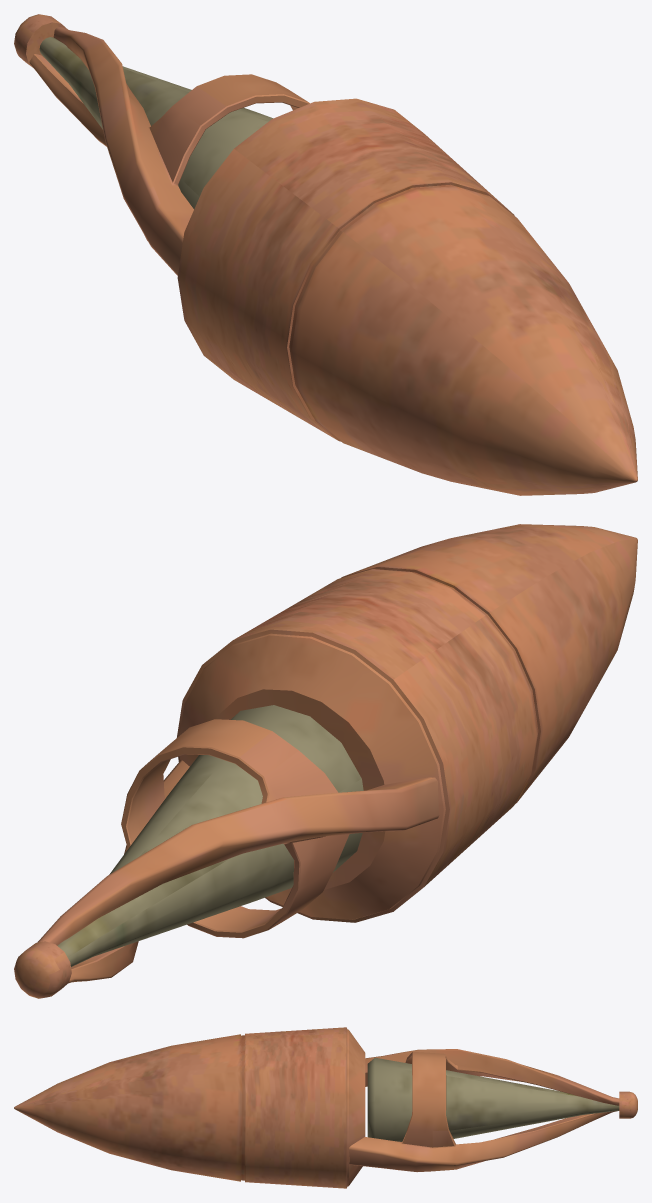
The model's file is Bullet3.fbx.
The picture shows the model from 3 angles, top to bottom: view 1: azimuth 30°, elevation 25°; view 2: azimuth 150°, elevation 25°; view 3: azimuth 270°, elevation 25°; orthographic projection. The views are drawn at different scales.
Parts seen in each view (by area): view 1: bullet_; view 2: bullet_; view 3: bullet_.
Boxes of the visible parts, <box> form: bullet_: <box>14,14,637,495</box>; bullet_: <box>14,524,637,998</box>; bullet_: <box>14,1027,637,1188</box>.
Size of the model in its own units: 2.3 by 2.3 by 8.84.
1 material, 1 textured.
